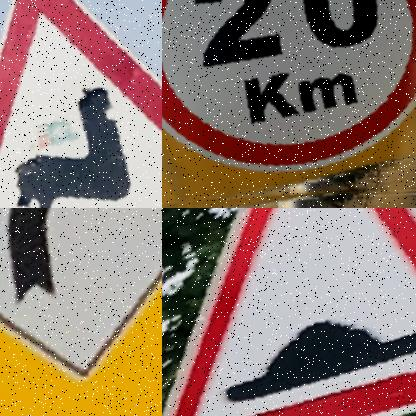Right bend: (0, 208, 162, 416)
Speed Breaker Ahead: (162, 208, 416, 416)
Speed Limit -20 kmph-: (162, 0, 416, 208)
